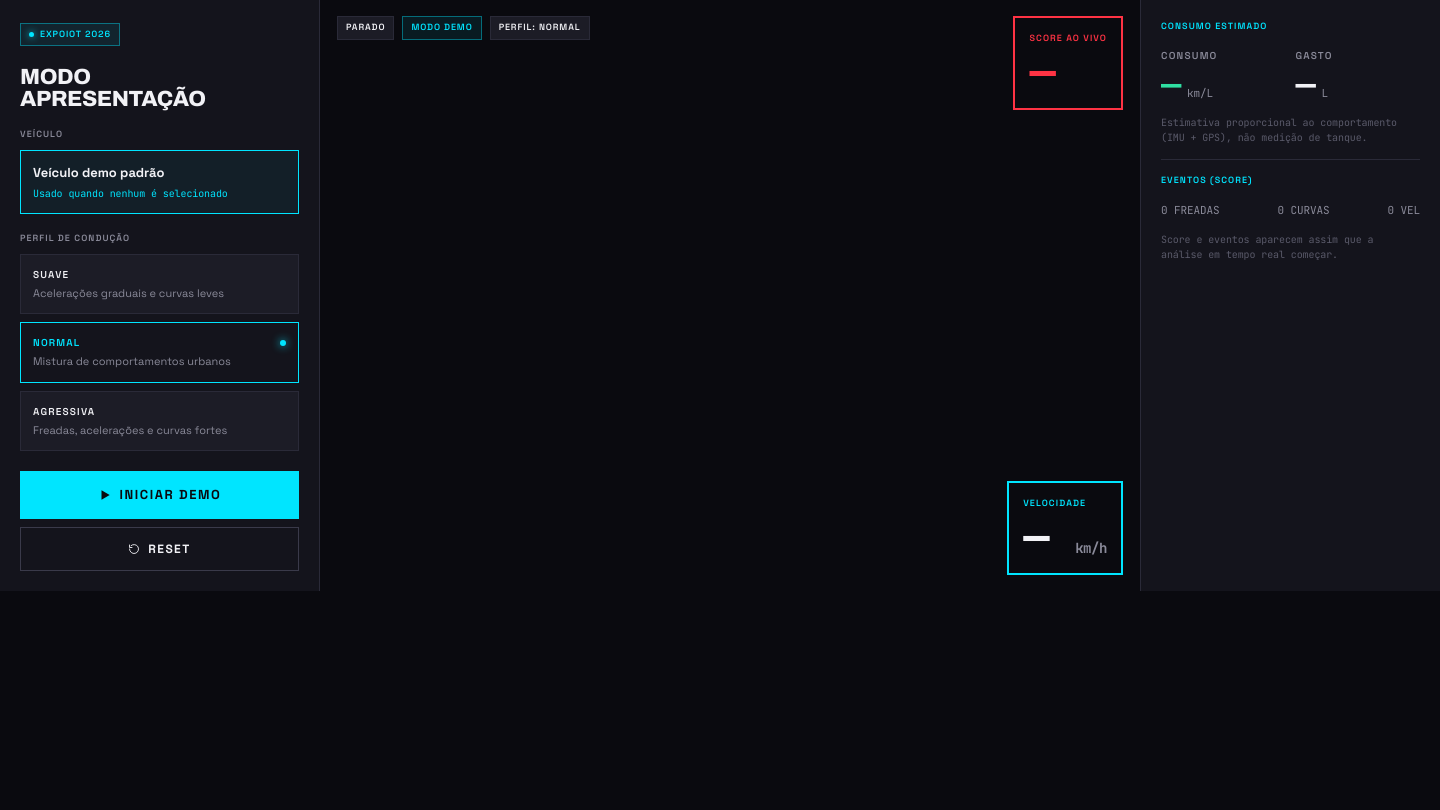
Test: DemoPage (JOA-RF-05) › SPEC: iniciar demo (1 clique) cria sessão e liga o trip no store
Step 1. Click the button "INICIAR DEMO" → (160, 495), box [20, 471, 299, 519]
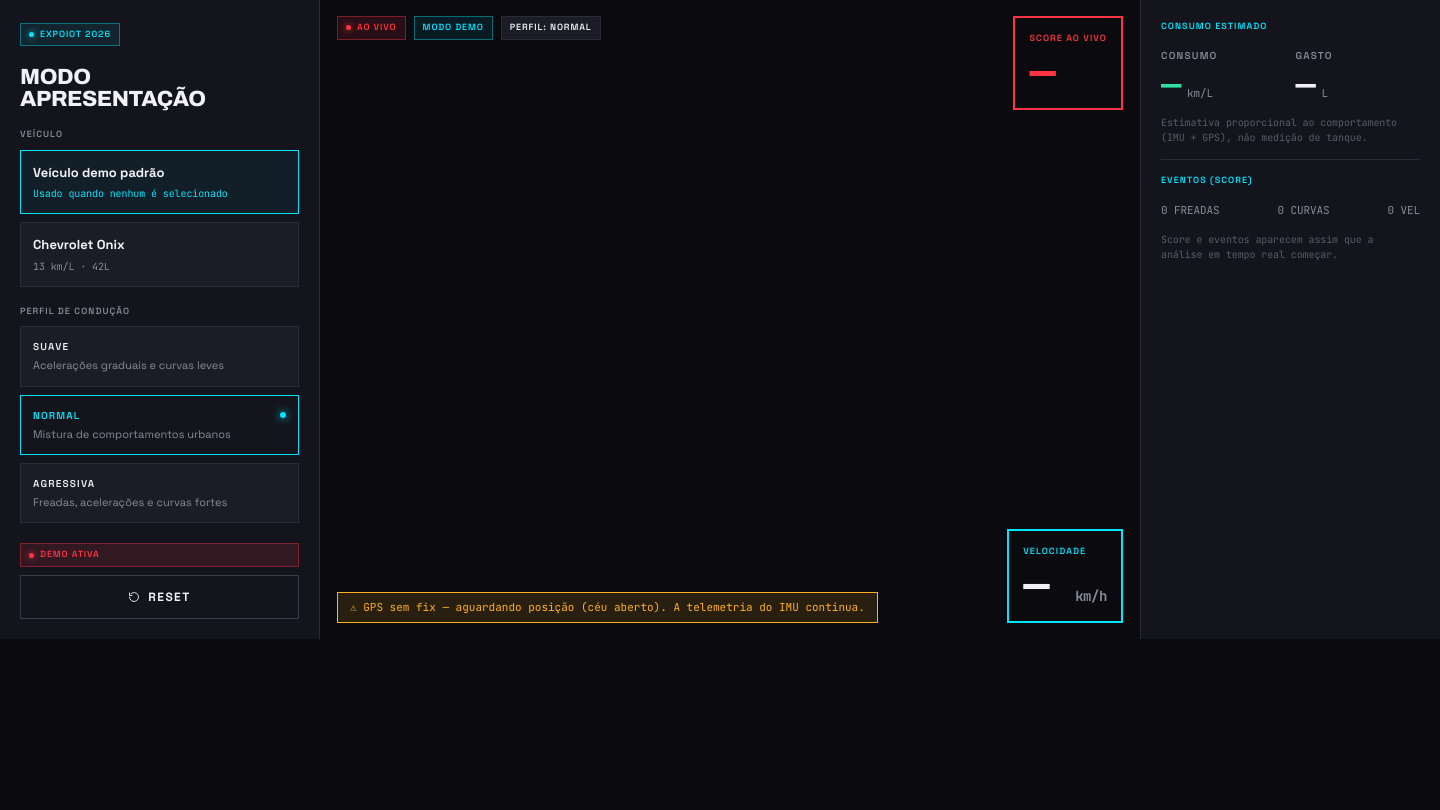
Expected: the text "DEMO ATIVA" is shown, [20, 543, 299, 567]
